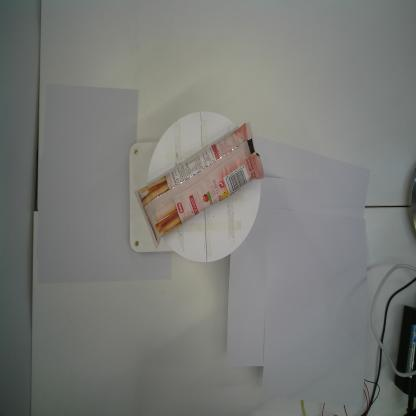Dessert: (135, 122, 264, 250)
